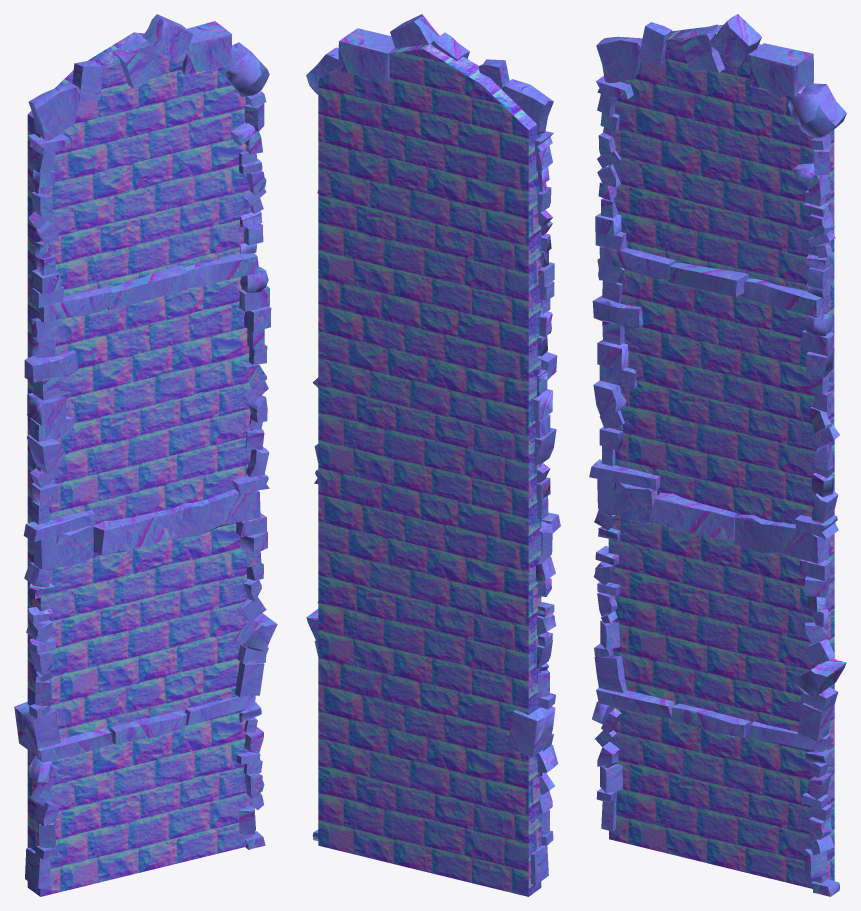
The model's file is TOWER_FACADE_LOD2.fbx.
3 views of the same model, side by side, from view 1: azimuth 30°, elevation 25°; view 2: azimuth 150°, elevation 25°; view 3: azimuth 330°, elevation 25° (orthographic).
Visible parts, largest first — view 1: TOWER_FACADE; view 2: TOWER_FACADE; view 3: TOWER_FACADE.
Part boxes in pixels (<box>): TOWER_FACADE: <box>14,14,277,896</box>; TOWER_FACADE: <box>306,14,560,896</box>; TOWER_FACADE: <box>589,14,846,896</box>.
Size of the model in its own units: 1036 by 3476 by 192.
1 material, 1 textured.
